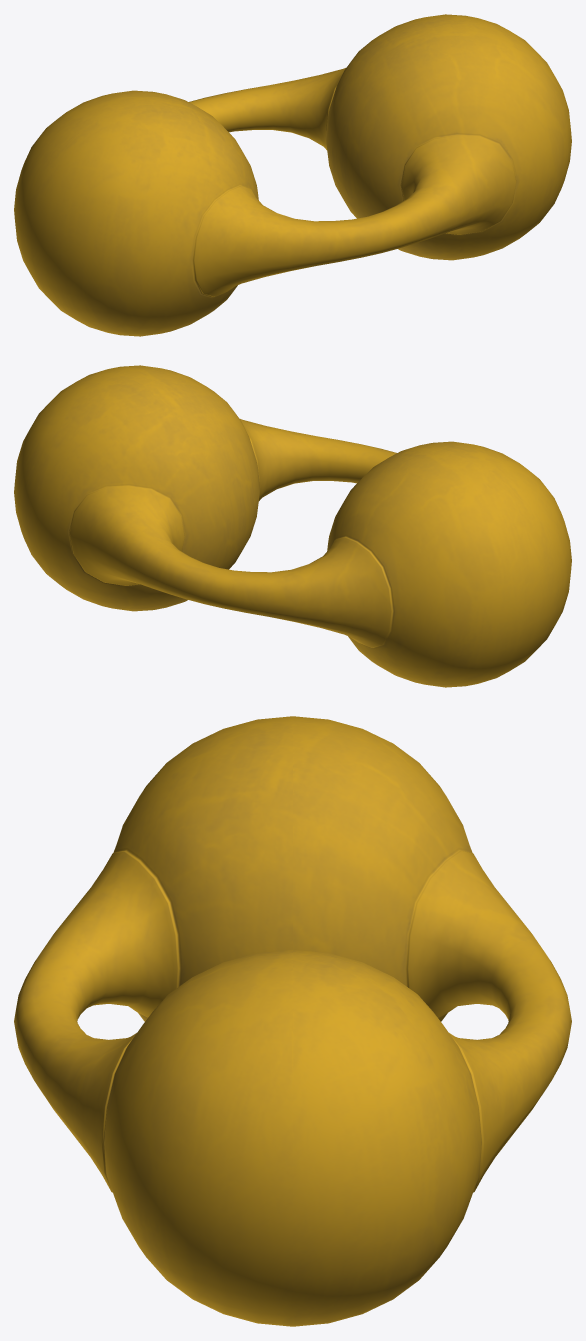
Rendered from Oxigeno.fbx.
3 views of the same model, one above another, from view 1: azimuth 30°, elevation 25°; view 2: azimuth 150°, elevation 25°; view 3: azimuth 270°, elevation 25° (orthographic). The views are drawn at different scales.
Parts seen in each view (by area): view 1: Oxigeno; view 2: Oxigeno; view 3: Oxigeno.
Part boxes in pixels (x1,y1,x2,y2): Oxigeno: [14, 14, 571, 336]; Oxigeno: [14, 365, 571, 687]; Oxigeno: [14, 716, 571, 1326].
Size of the model in its own units: 1.98 by 0.803 by 1.19.
Materials: 1 (1 with a texture image).
